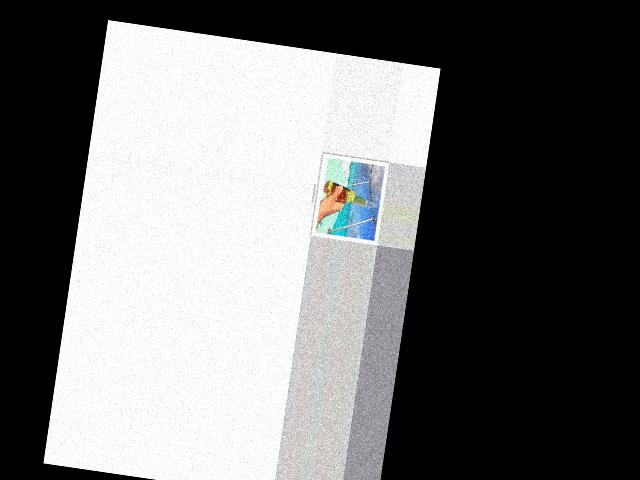beer: (321, 179, 378, 211)
